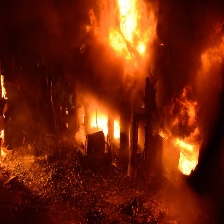fire: (105, 1, 152, 59), (92, 110, 121, 138), (178, 138, 197, 175), (1, 72, 8, 100), (1, 126, 5, 160)
smoke: (150, 1, 219, 133), (32, 3, 90, 78)
